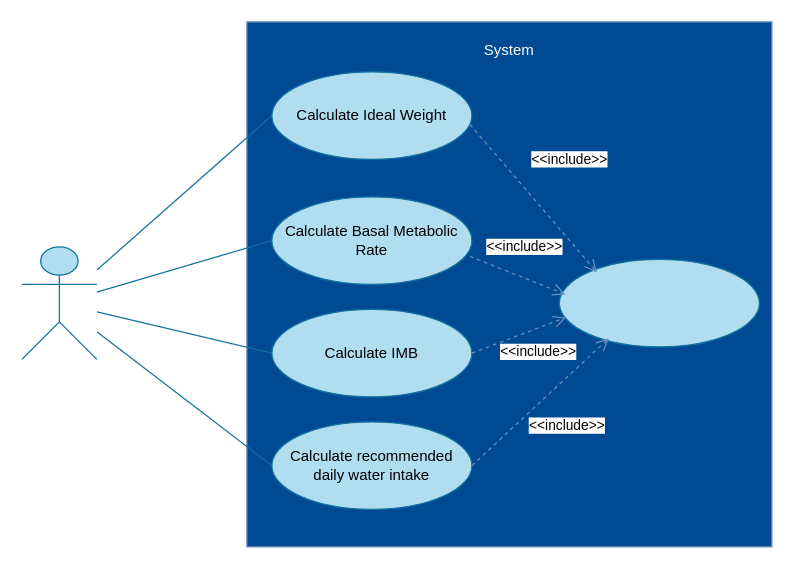
Some shapes in this 794 by 569 pixel diagram are drawn without their labels. Each missing label, with the centre of its shape:
Ingresar datos: point 658,302
User: point 59,302
